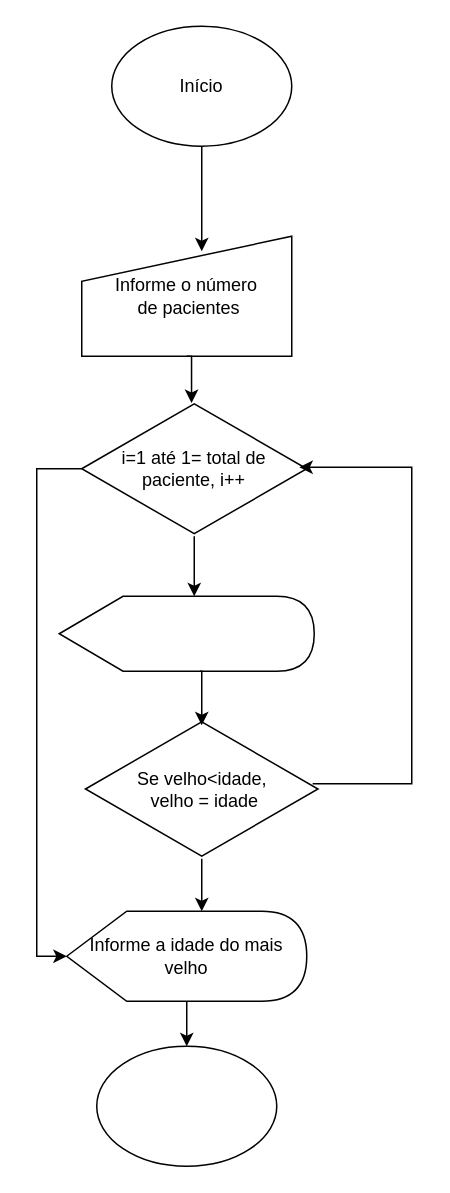
Some shapes in this 450 by 1193 pixel diagram are drawn without their labels. Here are the shapes that lost their labels. From the top down, the centre of each, then its label:
At point (186, 633): "Informe a idade de cada paciente".
At point (186, 1105): "Fim".
